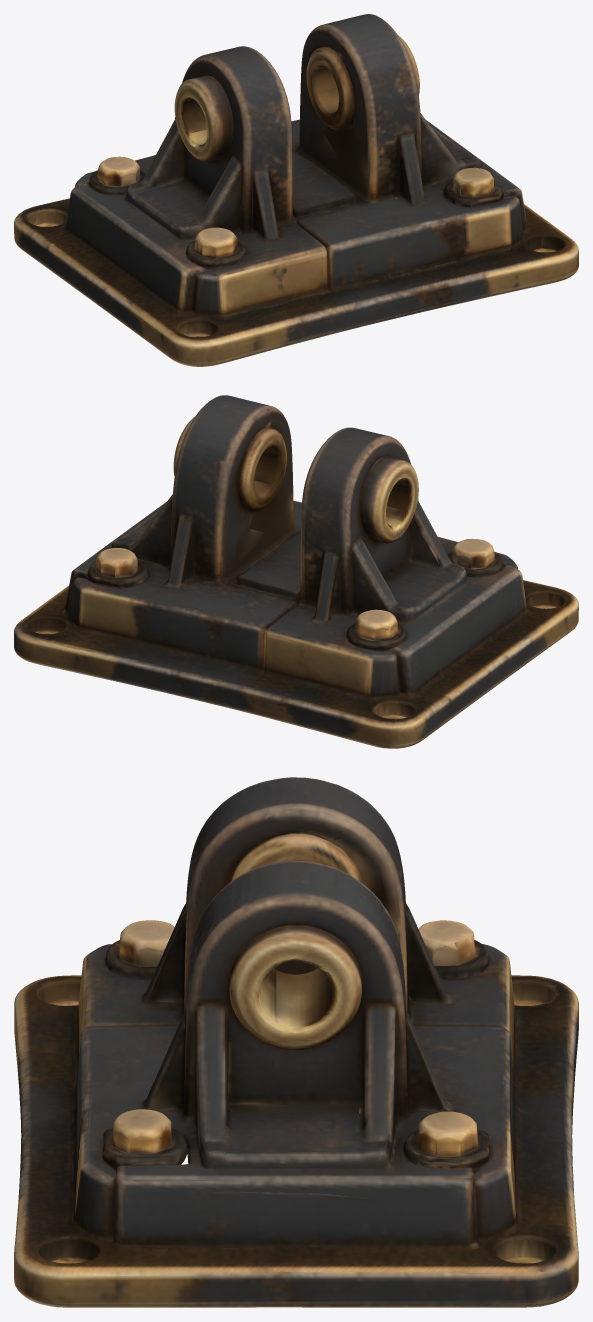
The model's file is level_handler.glb.
The picture shows the model from 3 angles, top to bottom: view 1: azimuth 30°, elevation 25°; view 2: azimuth 150°, elevation 25°; view 3: azimuth 270°, elevation 25°; orthographic projection. The views are drawn at different scales.
Visible parts, largest first — view 1: Mesh_0; view 2: Mesh_0; view 3: Mesh_0.
Boxes of the visible parts, box(x1,y1,x2,y2) form: Mesh_0: box(14, 14, 578, 366); Mesh_0: box(14, 395, 578, 748); Mesh_0: box(14, 777, 578, 1307).
Bounding box in the file's own units: 0.9115 × 0.4695 × 0.7283.
Materials: 1 (1 with a texture image).
